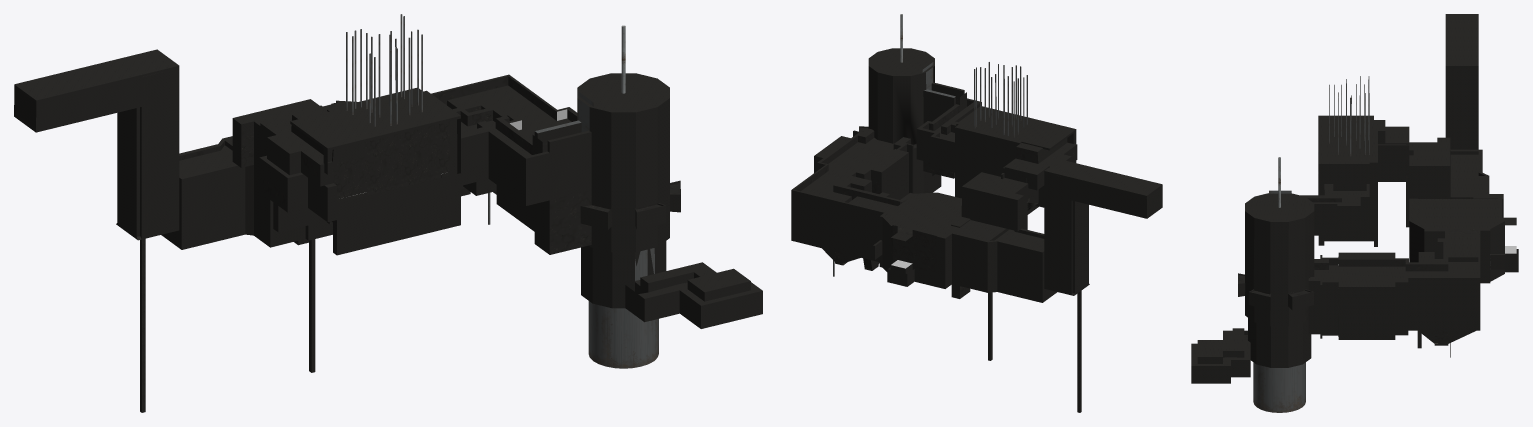
File: Remesh.fbx
3 renders of one model, left to right at view 1: azimuth 30°, elevation 25°; view 2: azimuth 150°, elevation 25°; view 3: azimuth 270°, elevation 25°, orthographic. The views are drawn at different scales.
Parts seen in each view (by area): view 1: Cylinder, Cylinder.001; view 2: Cylinder; view 3: Cylinder, Cylinder.001.
Boxes of the visible parts, x1,y1,x2,y2 form: Cylinder: (14,49,762,412); Cylinder.001: (588,25,658,368); Cylinder: (791,48,1162,412); Cylinder: (1191,14,1518,383); Cylinder.001: (1253,157,1305,412).
Size of the model in its own units: 120120 by 80409 by 82174.
